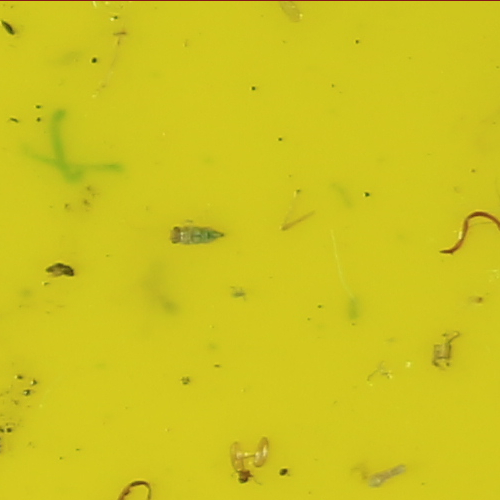Glycaspis: (168, 225, 225, 244)
